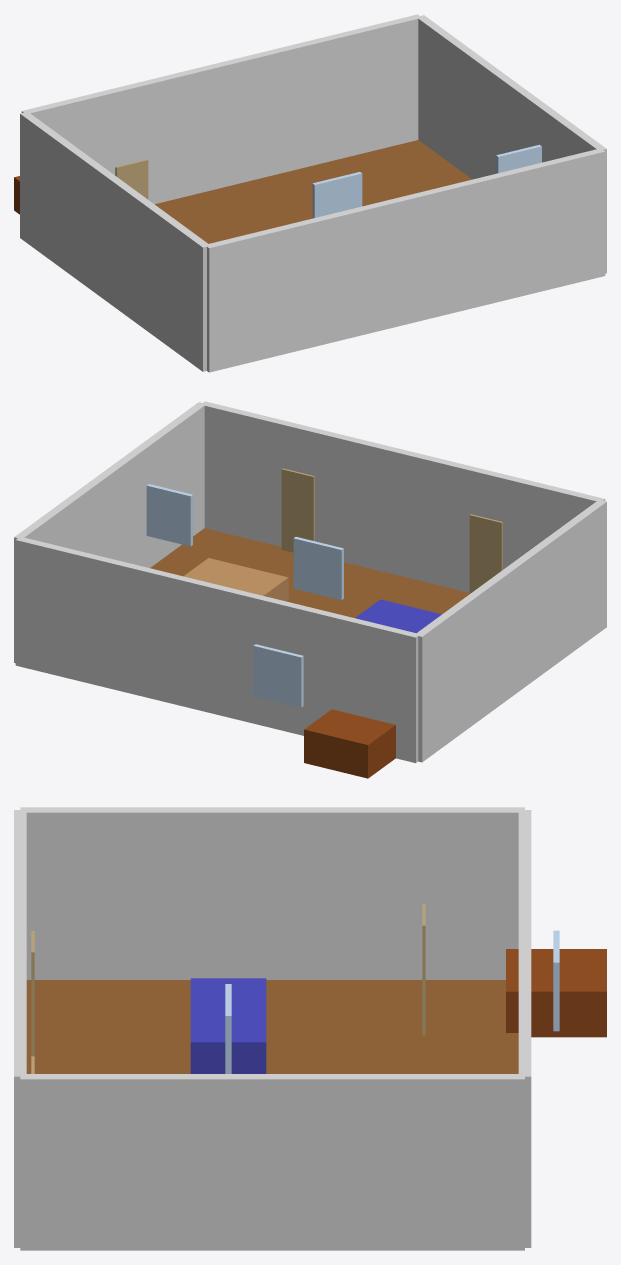
Rendered from improved_architectural_floorplan_1472.obj.
The picture shows the model from 3 angles, top to bottom: view 1: azimuth 30°, elevation 25°; view 2: azimuth 150°, elevation 25°; view 3: azimuth 270°, elevation 25°; orthographic projection. The views are drawn at different scales.
Visible parts, largest first — view 1: exterior_bottom, exterior_top, exterior_left, exterior_right, building_floor, Living_Room_window, Bedroom_window, Kitchen_door; view 2: exterior_top, exterior_bottom, exterior_left, exterior_right, building_floor, Kitchen_table, Kitchen_window, Living_Room_window, Bedroom_window, Bedroom_door, Bedroom_bed, Living_Room_door (+1 smaller); view 3: exterior_right, exterior_left, building_floor, Kitchen_table, Living_Room_sofa, exterior_top, exterior_bottom, Kitchen_window, Living_Room_window.
Boxes of the visible parts, x1,y1,x2,y2 form: exterior_bottom: [205, 148, 605, 372]; exterior_top: [21, 14, 421, 204]; exterior_left: [20, 112, 209, 371]; exterior_right: [418, 15, 606, 273]; building_floor: [155, 140, 471, 243]; Living_Room_window: [312, 172, 362, 218]; Bedroom_window: [496, 144, 541, 173]; Kitchen_door: [115, 159, 148, 199]; exterior_top: [15, 536, 419, 763]; exterior_bottom: [201, 401, 605, 592]; exterior_left: [417, 499, 606, 762]; exterior_right: [14, 402, 205, 663]; building_floor: [150, 528, 469, 617]; Kitchen_table: [304, 709, 395, 778]; Kitchen_window: [253, 644, 303, 707]; Living_Room_window: [293, 537, 343, 600]; Bedroom_window: [146, 484, 192, 546]; Bedroom_door: [281, 468, 314, 552]; Bedroom_bed: [183, 558, 288, 601]; Living_Room_door: [469, 514, 502, 593]; exterior_right: [20, 1074, 524, 1250]; exterior_left: [20, 807, 524, 979]; building_floor: [26, 980, 518, 1073]; Kitchen_table: [506, 949, 606, 1037]; Living_Room_sofa: [190, 978, 266, 1073]; exterior_top: [518, 810, 531, 1247]; exterior_bottom: [14, 810, 26, 1247]; Kitchen_window: [553, 930, 559, 1031]; Living_Room_window: [225, 984, 231, 1073].
Size of the model in its own units: 10.2 by 3 by 9.4.
